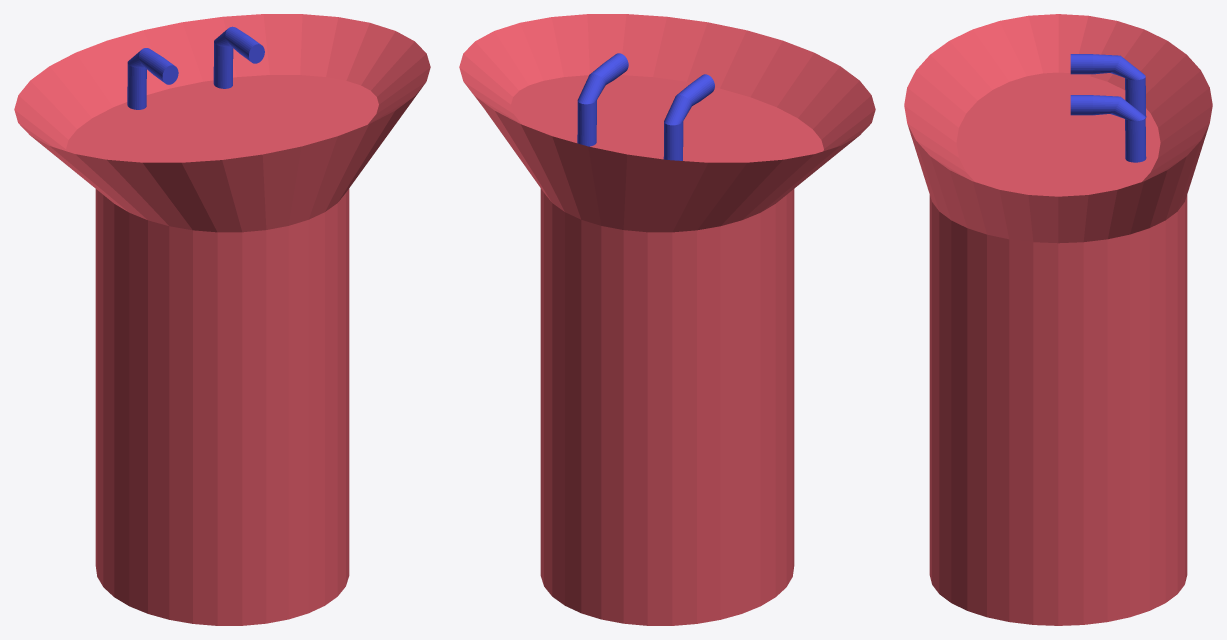
Rendered from Sink2UV.fbx.
3 renders of one model, left to right at view 1: azimuth 30°, elevation 25°; view 2: azimuth 150°, elevation 25°; view 3: azimuth 270°, elevation 25°, orthographic. The views are drawn at different scales.
Visible parts, largest first — view 1: sink, tap; view 2: sink, tap; view 3: sink, tap.
Boxes of the visible parts, left/top/right/bottom form: sink: left=14, top=14, right=430, bottom=625; tap: left=127, top=26, right=264, bottom=109; sink: left=459, top=14, right=875, bottom=625; tap: left=577, top=53, right=714, bottom=160; sink: left=904, top=14, right=1212, bottom=625; tap: left=1070, top=54, right=1146, bottom=162.
Size of the model in its own units: 156 by 198 by 111.
